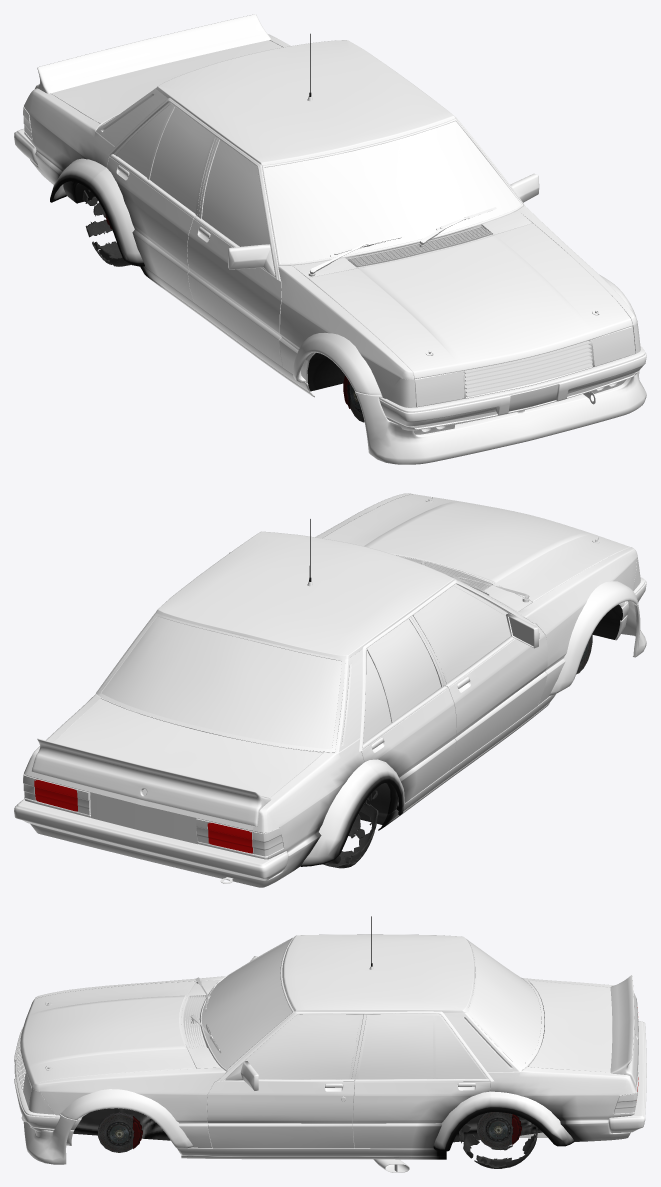
The model's file is 64_FalconXD.fbx.
3 renders of one model, top to bottom at view 1: azimuth 30°, elevation 25°; view 2: azimuth 150°, elevation 25°; view 3: azimuth 270°, elevation 25°, orthographic. The views are drawn at different scales.
Parts seen in each view (by area): view 1: Body_Duco, Body_Glass, Body_Kit_00, Mod_Racing_Skirt, Body_Matte, Body_Chrome, Undercarrage; view 2: Body_Duco, Body_Glass, Body_Kit_00, Mod_Racing_Skirt, Body_Matte, BrakeLights, Body_Chrome, Undercarrage; view 3: Body_Duco, Body_Glass, Body_Kit_00, Mod_Racing_Skirt, Body_Matte, Rotor (×2), Body_Chrome, Undercarrage.
Part boxes in pixels (left/top/right/bottom): Body_Duco: left=24, top=34, right=637, bottom=398; Body_Glass: left=23, top=104, right=640, bottom=407; Body_Kit_00: left=308, top=223, right=632, bottom=379; Mod_Racing_Skirt: left=35, top=14, right=646, bottom=464; Body_Matte: left=14, top=101, right=646, bottom=428; Body_Chrome: left=107, top=98, right=524, bottom=280; Undercarrage: left=75, top=155, right=345, bottom=391; Body_Duco: left=24, top=493, right=637, bottom=887; Body_Glass: left=23, top=557, right=640, bottom=856; Body_Kit_00: left=322, top=494, right=630, bottom=601; Mod_Racing_Skirt: left=31, top=581, right=646, bottom=866; Body_Matte: left=14, top=552, right=646, bottom=880; BrakeLights: left=34, top=779, right=253, bottom=853; Body_Chrome: left=142, top=580, right=533, bottom=795; Undercarrage: left=358, top=604, right=622, bottom=824; Body_Duco: left=32, top=934, right=638, bottom=1156; Body_Glass: left=23, top=939, right=638, bottom=1114; Body_Kit_00: left=20, top=981, right=196, bottom=1087; Mod_Racing_Skirt: left=23, top=975, right=638, bottom=1164; Body_Matte: left=14, top=936, right=646, bottom=1133; Rotor (×2): left=98, top=1112, right=513, bottom=1152; Body_Chrome: left=204, top=989, right=493, bottom=1172; Undercarrage: left=73, top=1108, right=542, bottom=1142.
Size of the model in its own units: 2.13 by 1.73 by 4.75.
